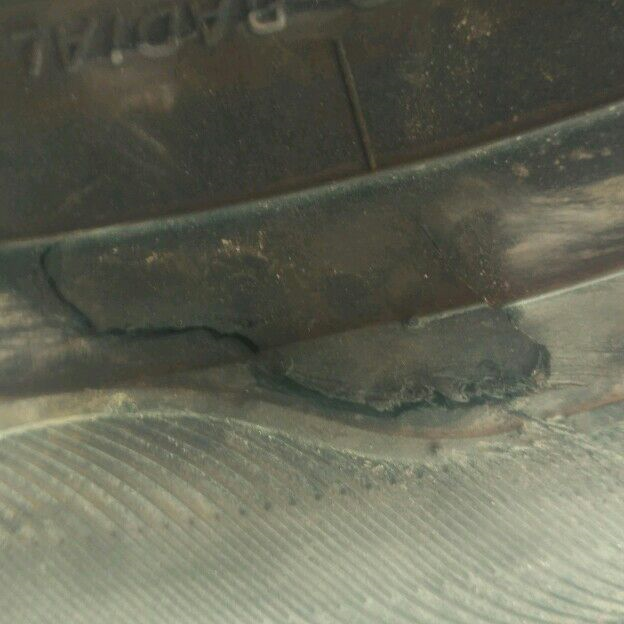cut: (36, 242, 554, 425)
